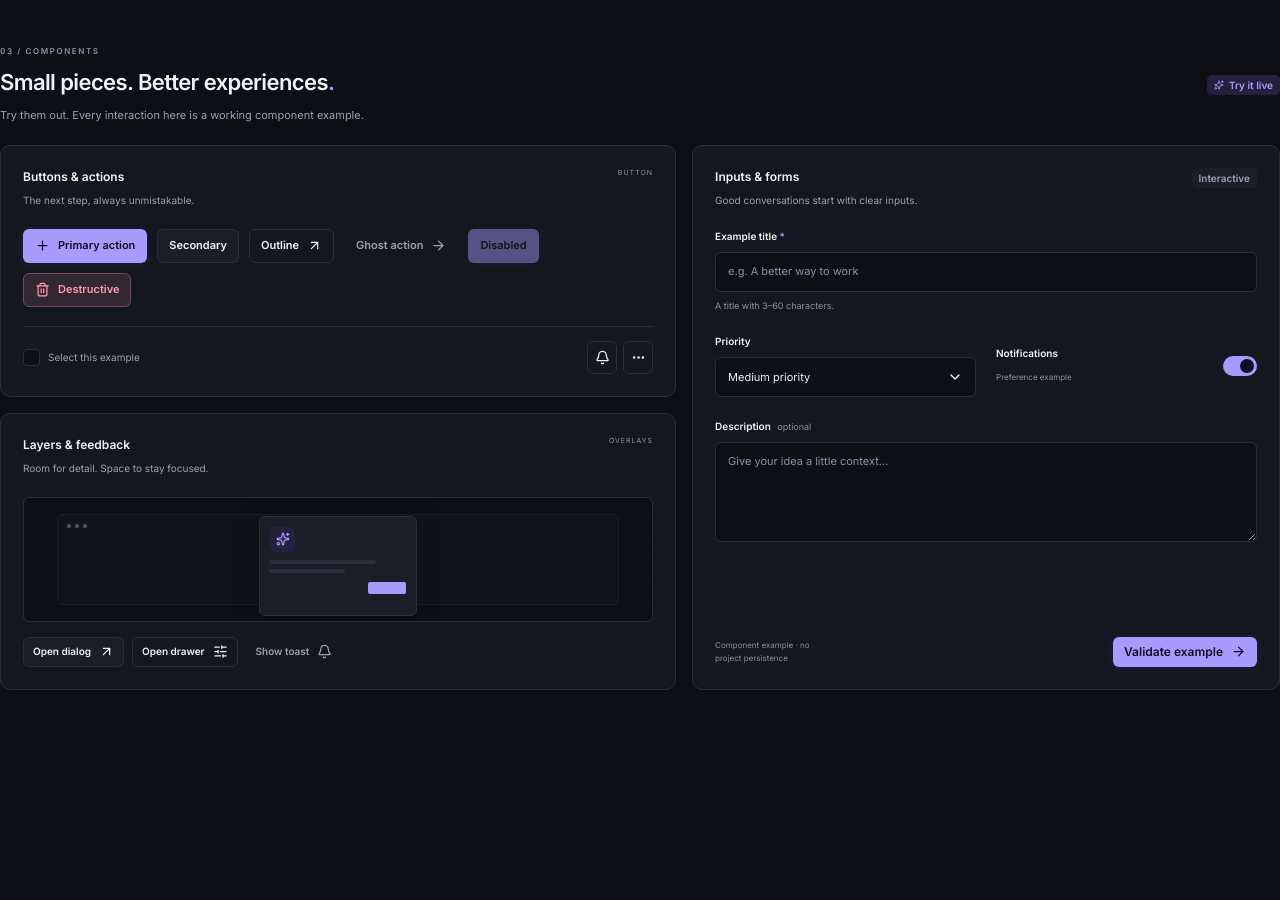
Test: Component lab interactions › opens a dialog with an accessible description and closes it with Escape
Click the button "Open dialog" at (74, 652), box [23,637,124,667]
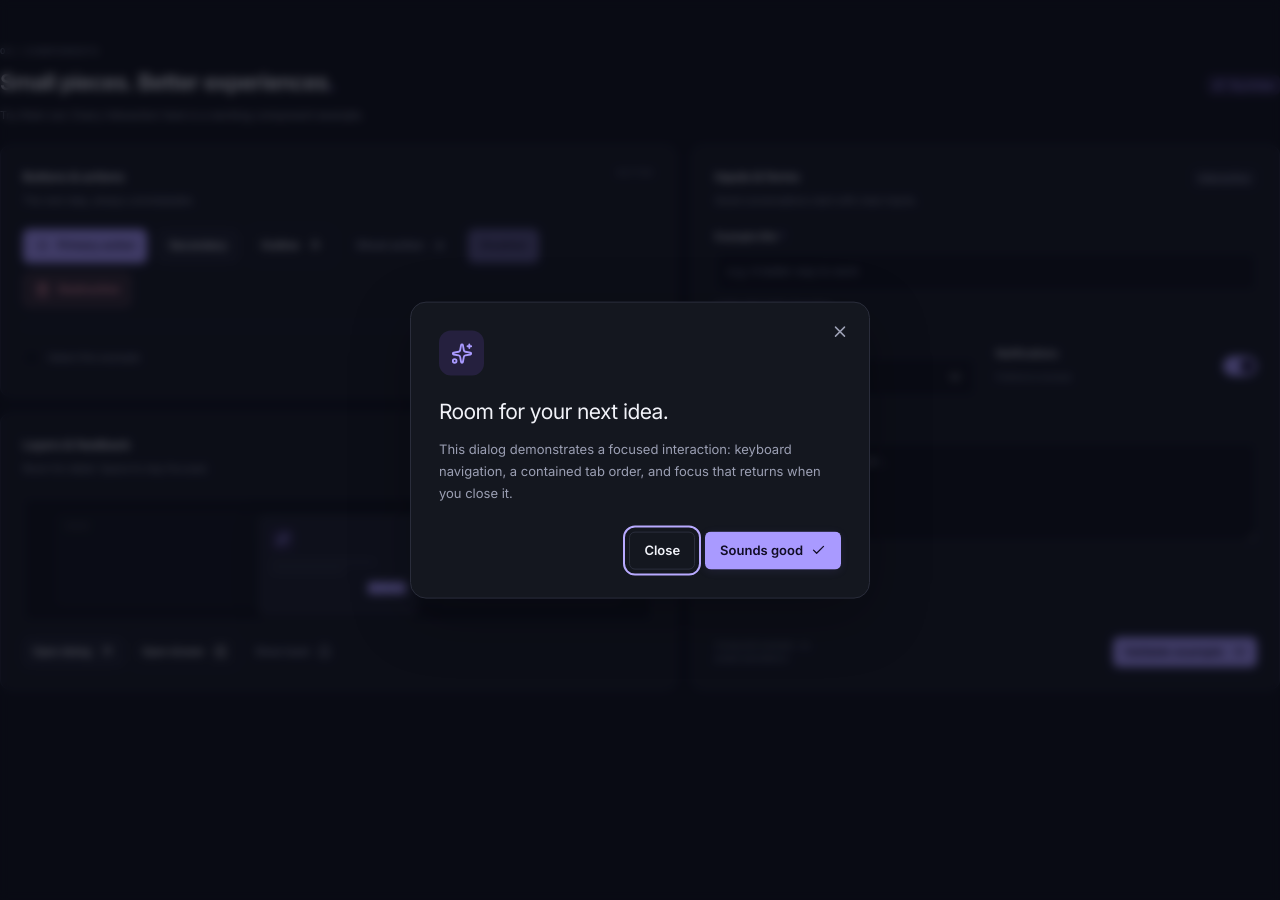
Press Escape
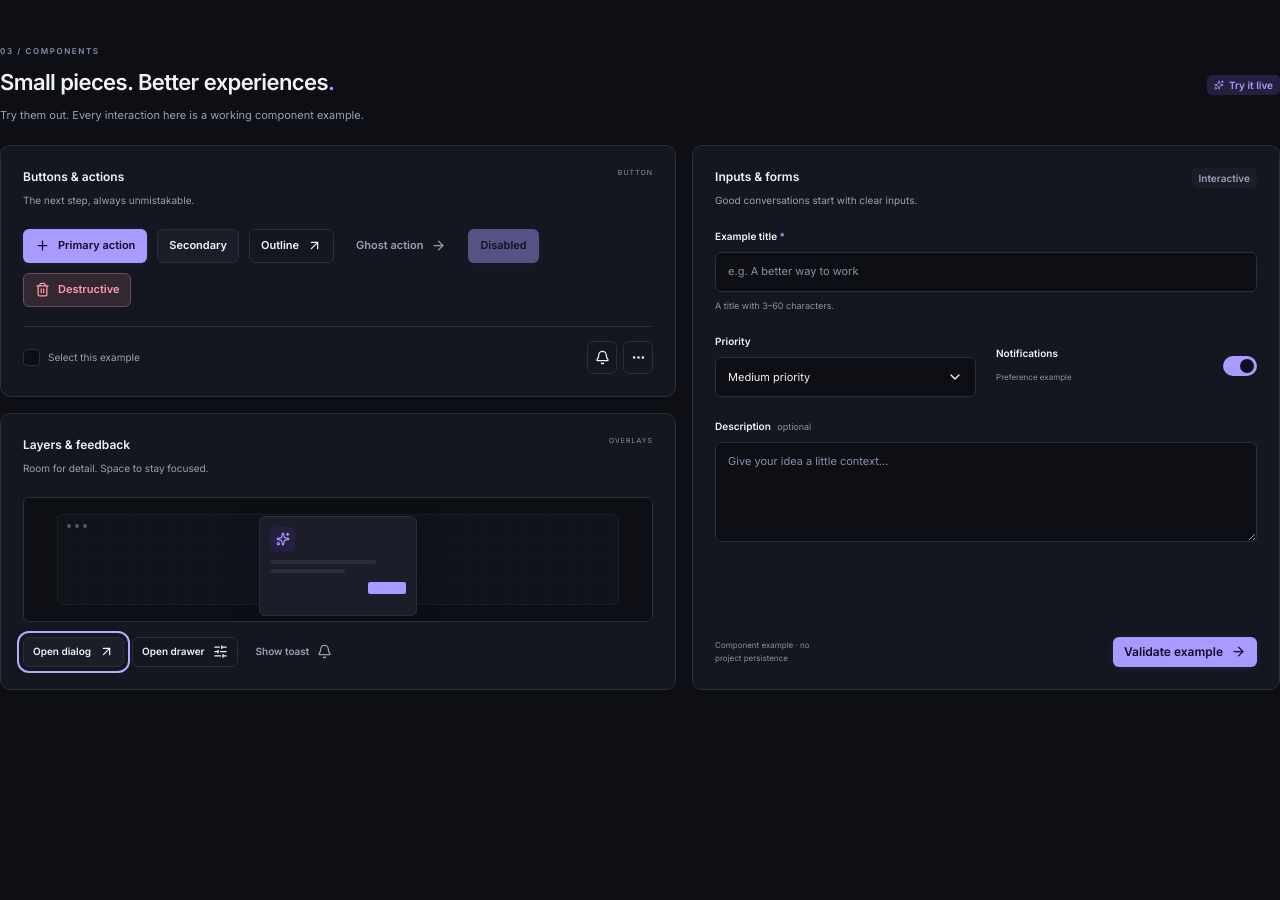
Result: the heading "Room for your next idea." is gone
